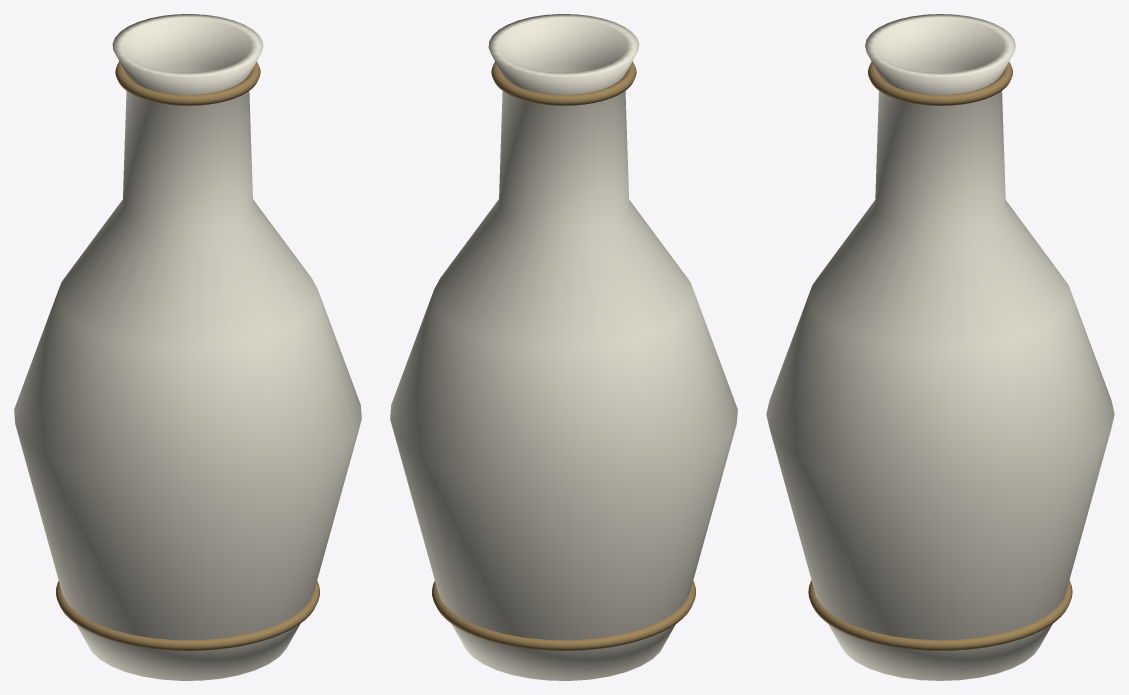
File: Vase_Ceramic.fbx
3 renders of one model, left to right at view 1: azimuth 30°, elevation 25°; view 2: azimuth 150°, elevation 25°; view 3: azimuth 270°, elevation 25°, orthographic.
Visible parts, largest first — view 1: Hollow porcelain vase.001, Vase gilding.003, Vase gilding.005; view 2: Hollow porcelain vase.001, Vase gilding.003, Vase gilding.005; view 3: Hollow porcelain vase.001, Vase gilding.003, Vase gilding.005.
Part boxes in pixels (box(x1,y1,x2,y2)): Hollow porcelain vase.001: box(14, 14, 361, 680); Vase gilding.003: box(56, 580, 319, 650); Vase gilding.005: box(115, 61, 260, 105); Hollow porcelain vase.001: box(390, 14, 737, 680); Vase gilding.003: box(432, 580, 695, 650); Vase gilding.005: box(491, 61, 636, 105); Hollow porcelain vase.001: box(766, 14, 1114, 680); Vase gilding.003: box(808, 580, 1072, 650); Vase gilding.005: box(868, 61, 1012, 105).
Bounding box in the file's own units: 0.24 × 0.45 × 0.24.
